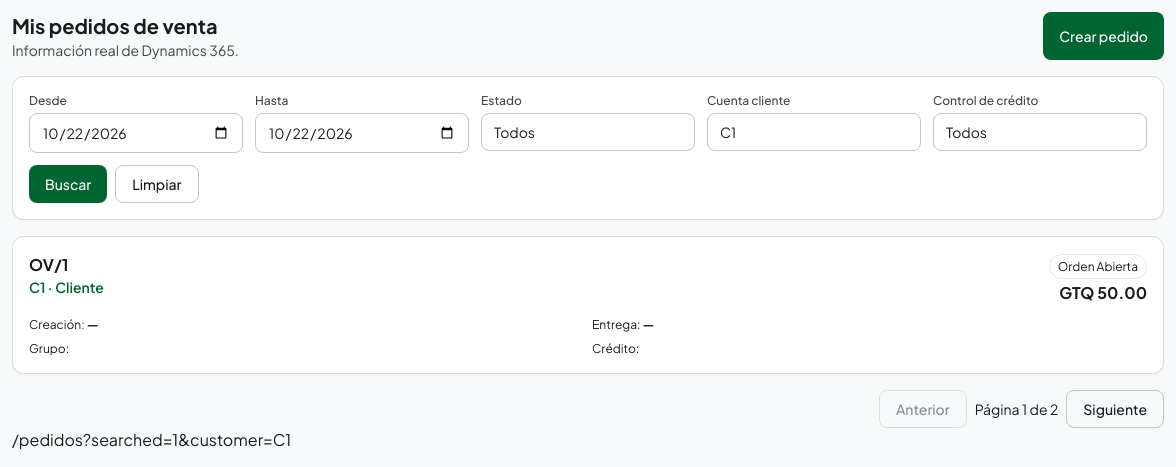
Test: OrdersPage filters, history and recovery › opens an encoded order detail with applied filters and displays official amounts
Expected: the text "GTQ 50.00" is shown, [1049,281,1147,305]
Click the button that starts with "OV/1" at x=588, y=305, box [12,236,1164,374]
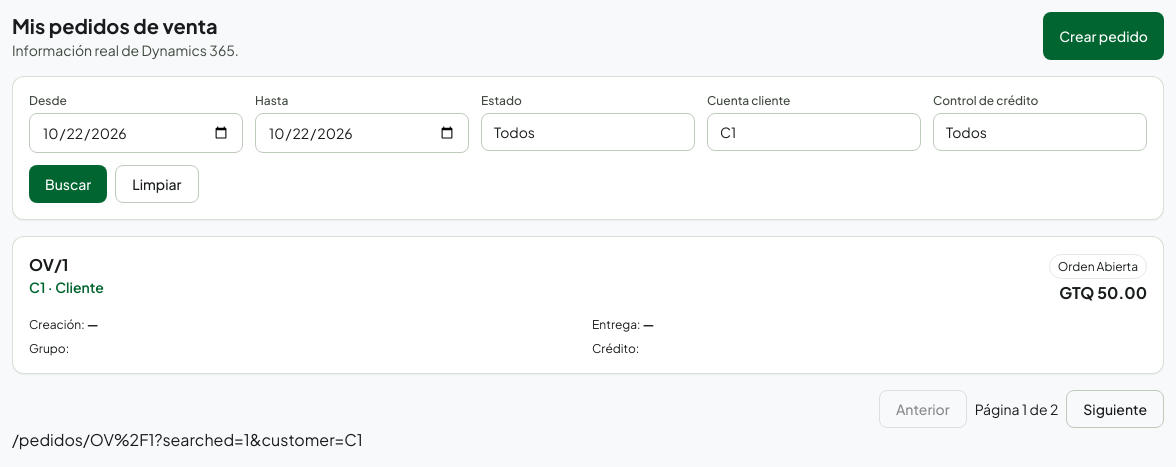
Expected: the text with test id "location" reads "/pedidos/OV%2F1?searched=1&customer=C1", [12,429,363,450]
